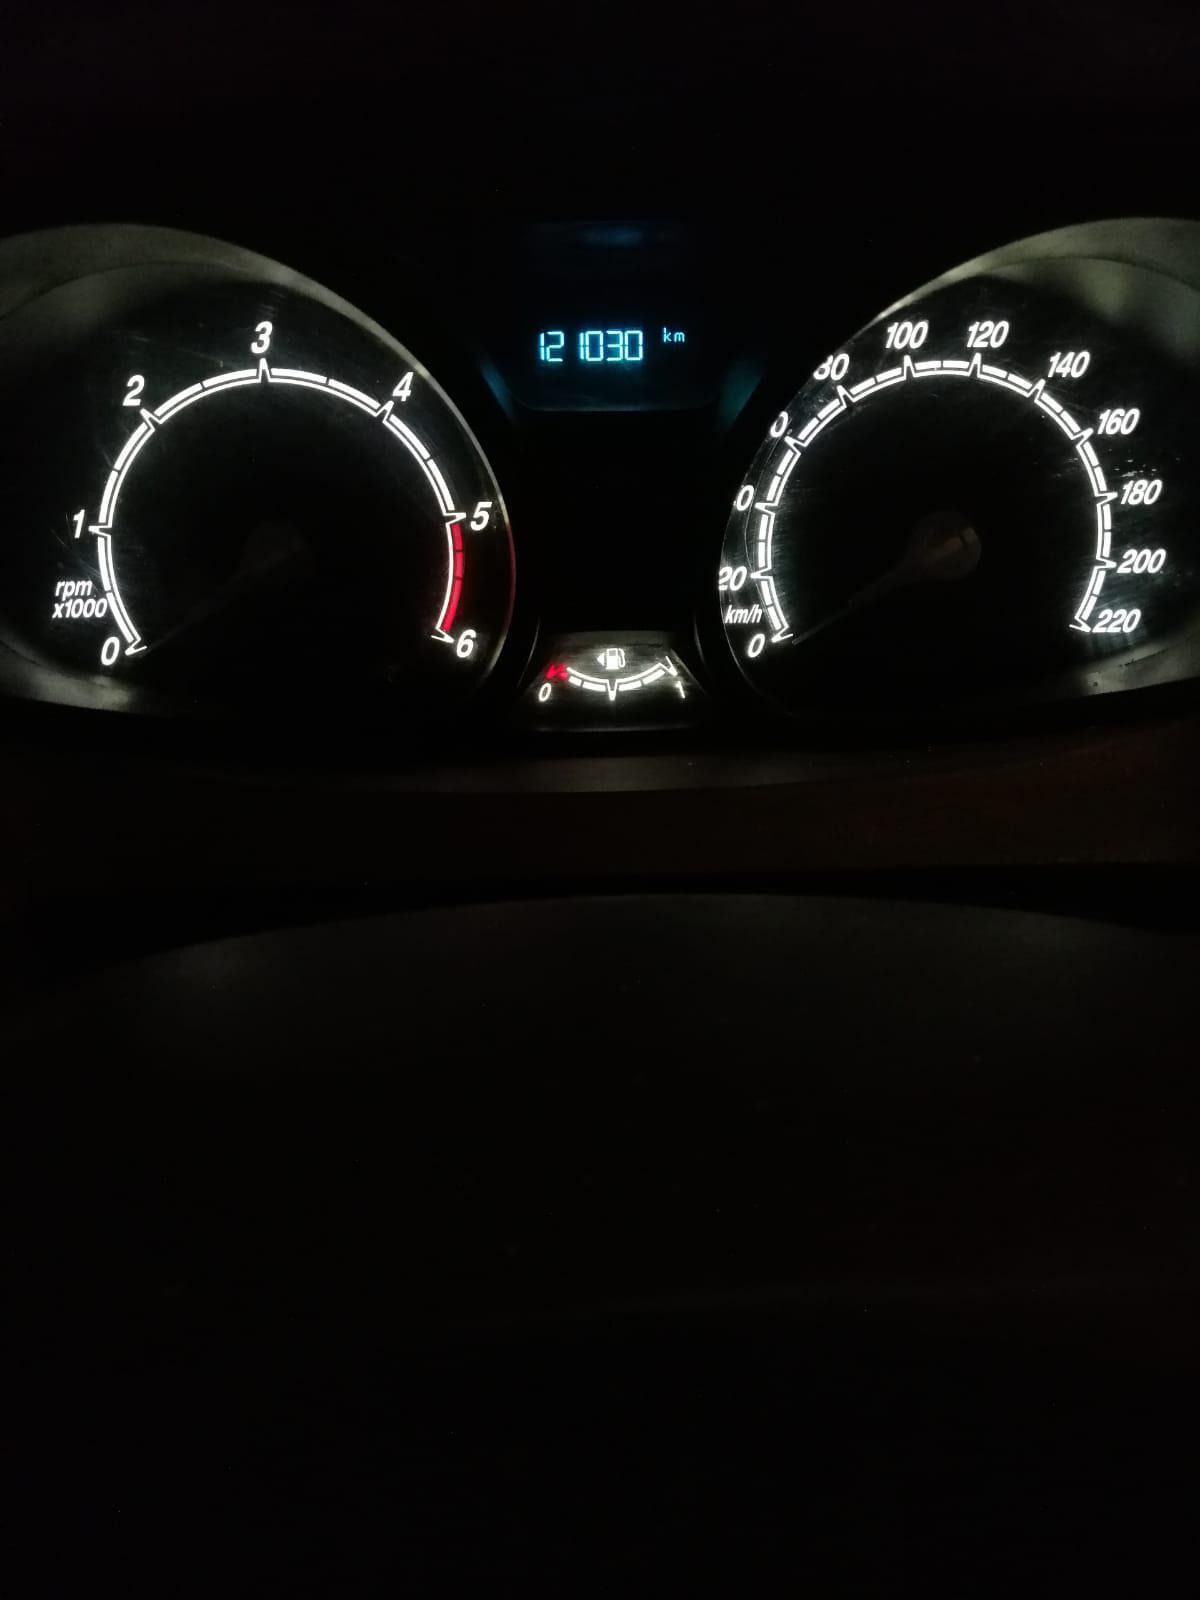0: (624, 328, 644, 362), (585, 328, 605, 362)
1: (536, 330, 547, 364), (577, 329, 586, 362)
2: (548, 329, 566, 363)
3: (606, 328, 623, 362)
X: (662, 326, 674, 341), (674, 331, 684, 343)
odometer: (507, 299, 725, 387)
